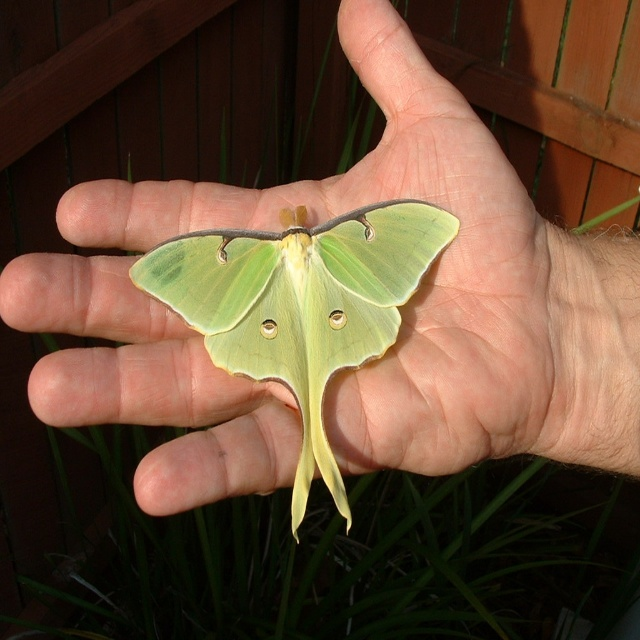Butterfly: (159, 170, 444, 521)
